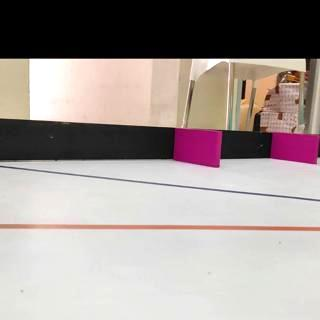xparking: (176, 130, 220, 164), (274, 134, 318, 160)
